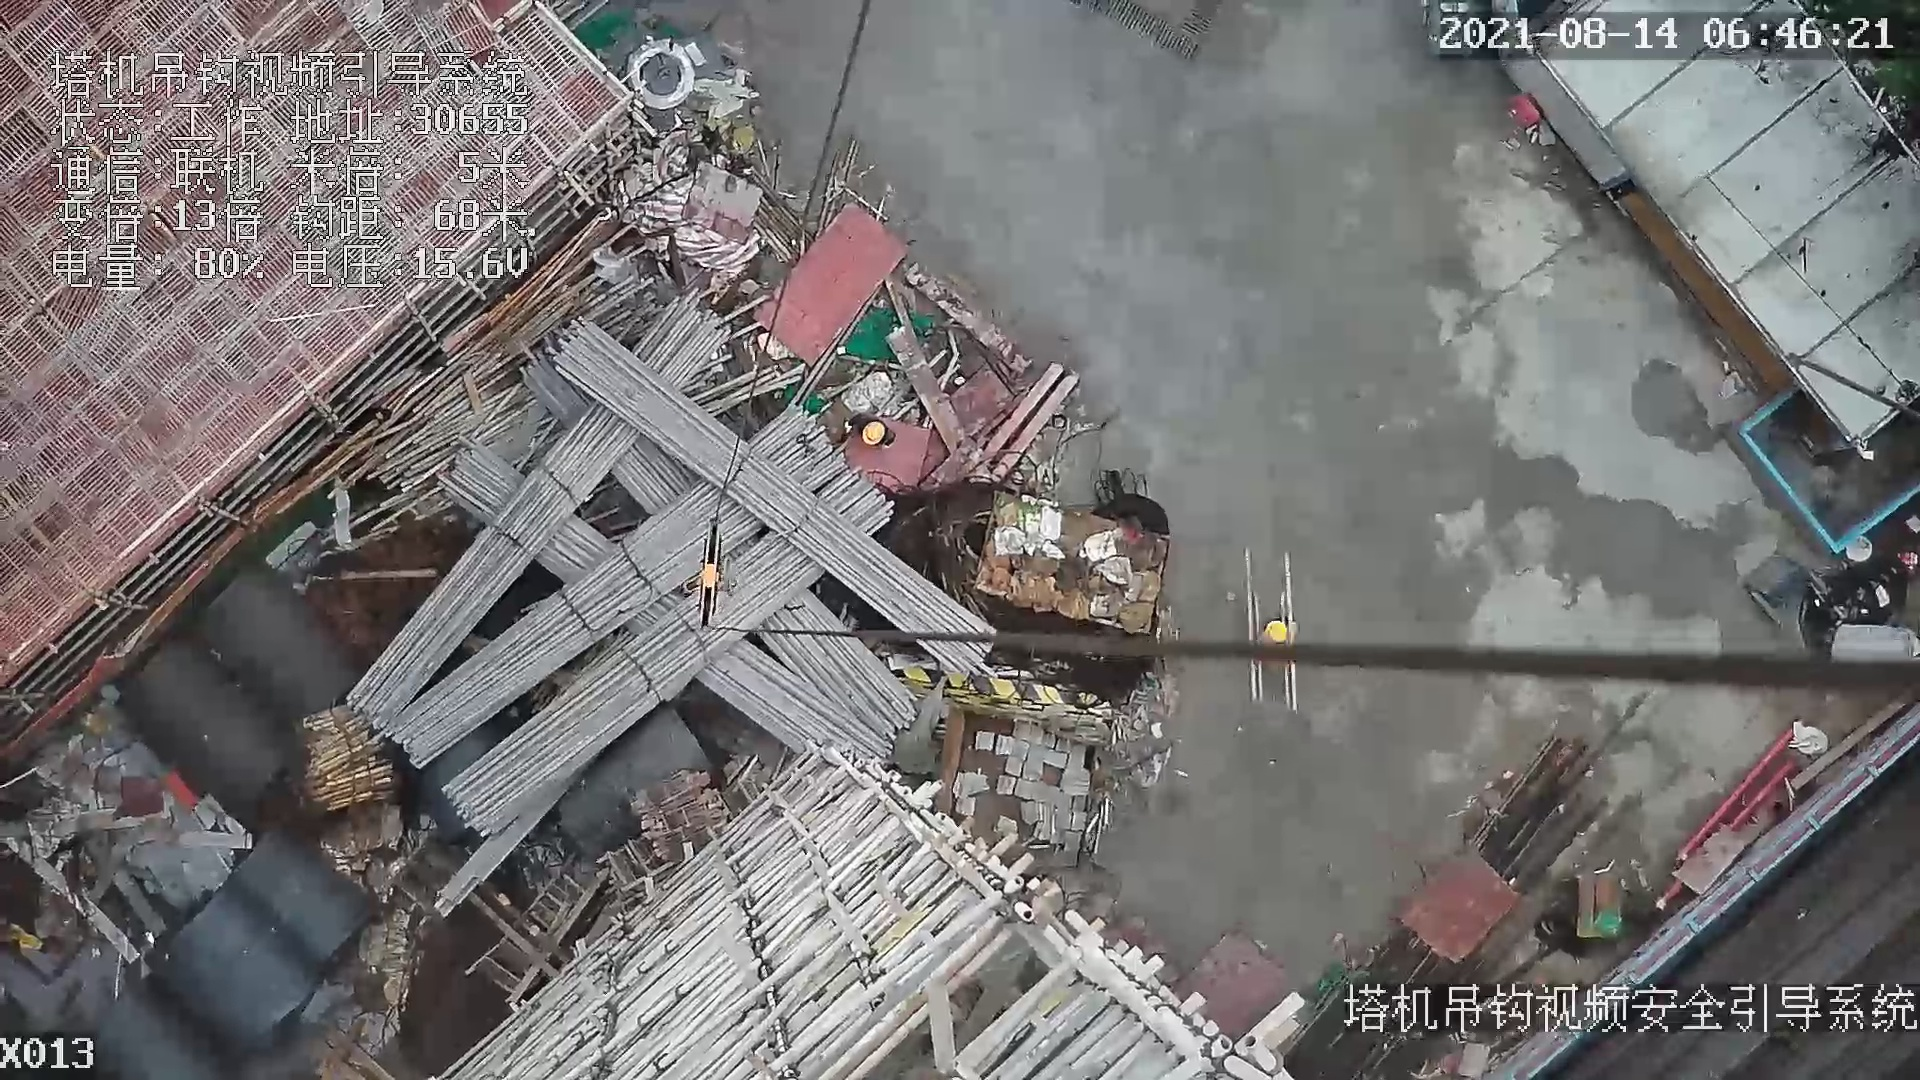helmet: (1269, 617, 1286, 645), (862, 424, 885, 446)
hook: (690, 514, 733, 636)
hopper: (1728, 386, 1920, 555)
person: (1246, 606, 1303, 663), (844, 412, 897, 448)
